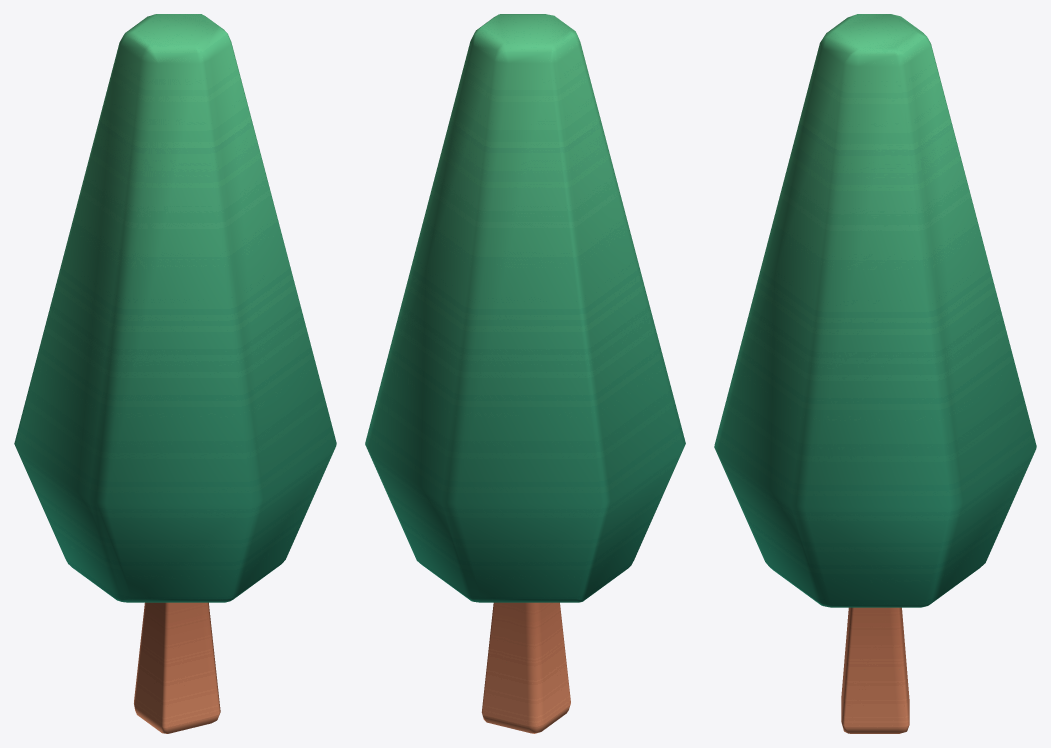
Rendered from tree-small.glb.
3 renders of one model, left to right at view 1: azimuth 30°, elevation 25°; view 2: azimuth 150°, elevation 25°; view 3: azimuth 270°, elevation 25°, orthographic.
Visible parts, largest first — view 1: tree-small; view 2: tree-small; view 3: tree-small.
Part boxes in pixels (bbox=[...]): tree-small: bbox=[14, 14, 336, 733]; tree-small: bbox=[365, 14, 685, 733]; tree-small: bbox=[714, 14, 1036, 733].
Size of the model in its own units: 0.2104 by 0.567 by 0.2391.
Materials: 1 (1 with a texture image).
